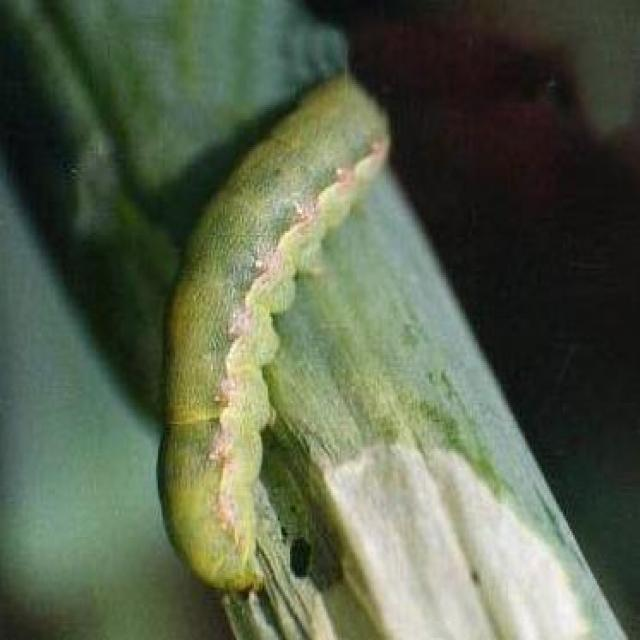BeetArmyWorm-Larva-: (151, 68, 403, 596)
